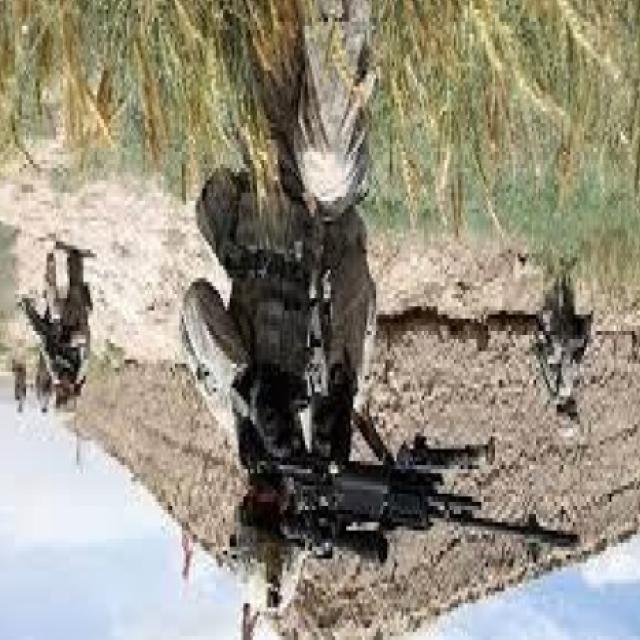Gun: (234, 427, 603, 559)
